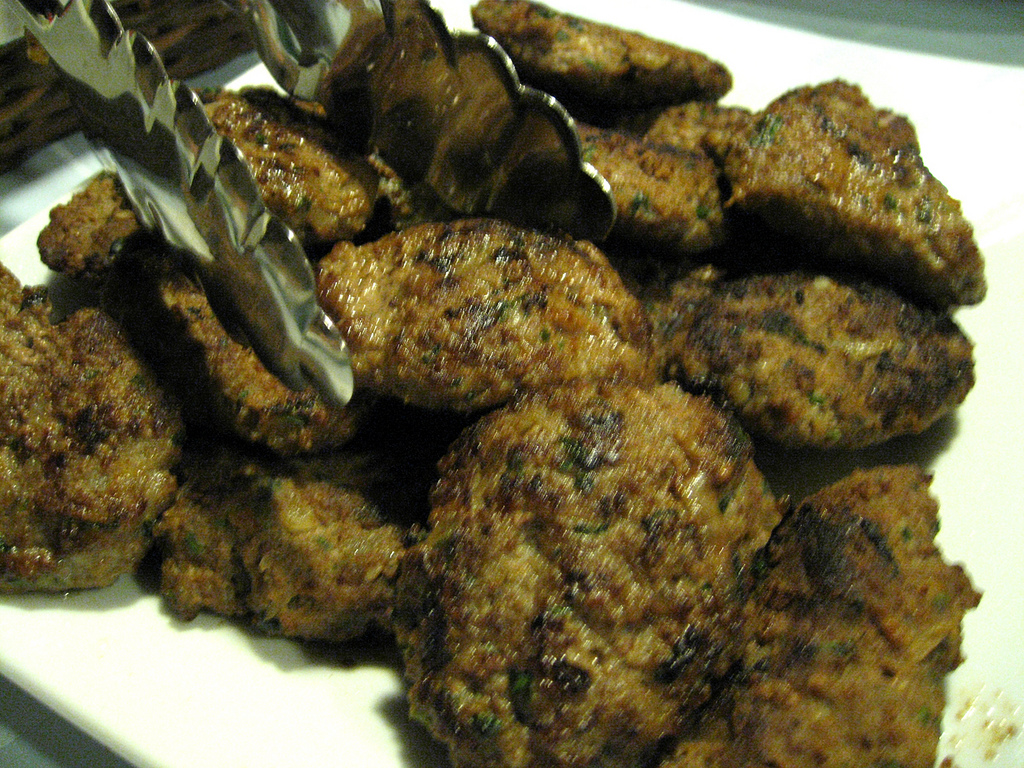meatballs: (368, 238, 847, 712)
